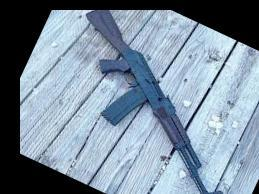larga: (86, 10, 223, 194)
